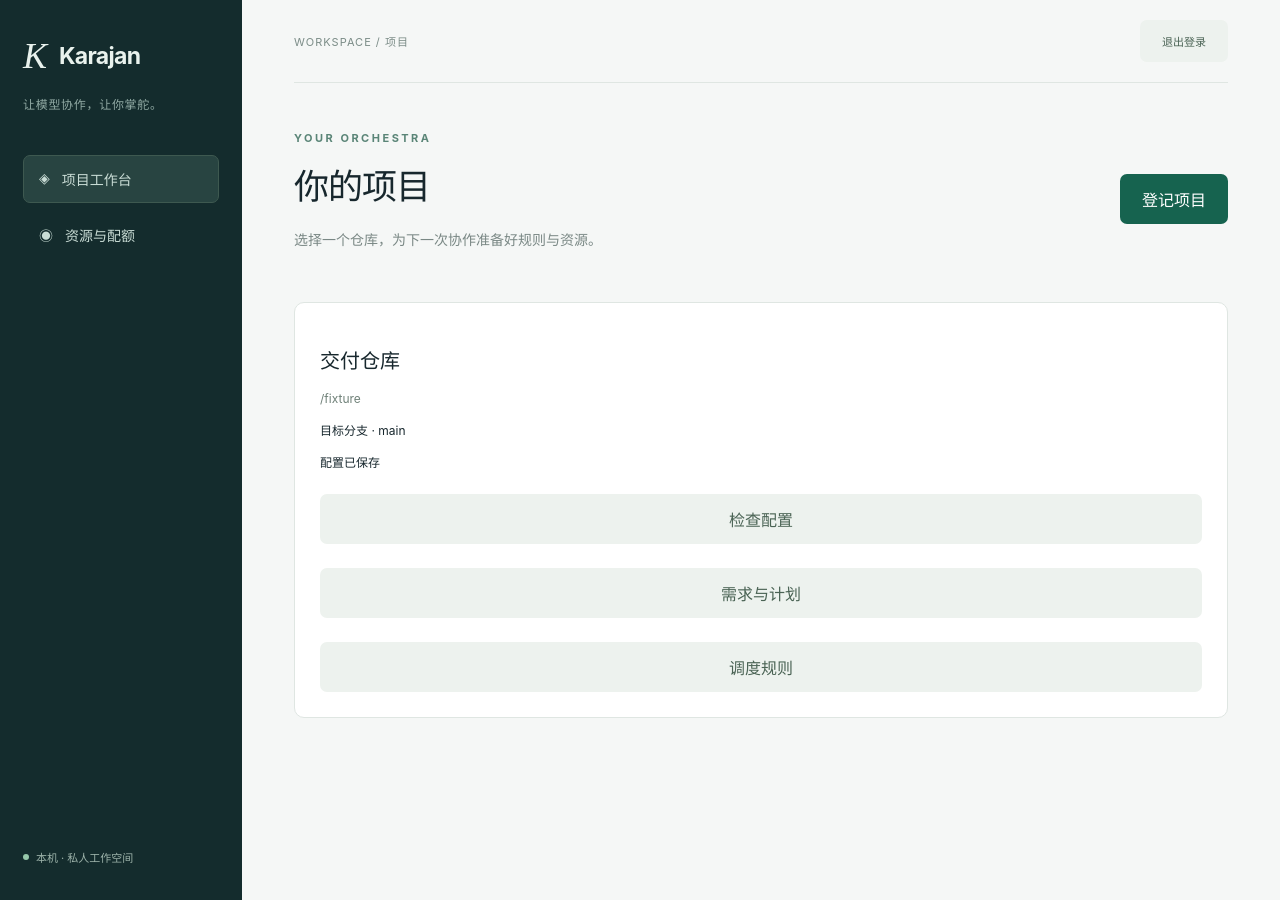
Test: opens the project rulebook from App and expires its owner session
Click the button "调度规则": {"x": 761, "y": 667} [320,642,1202,692]
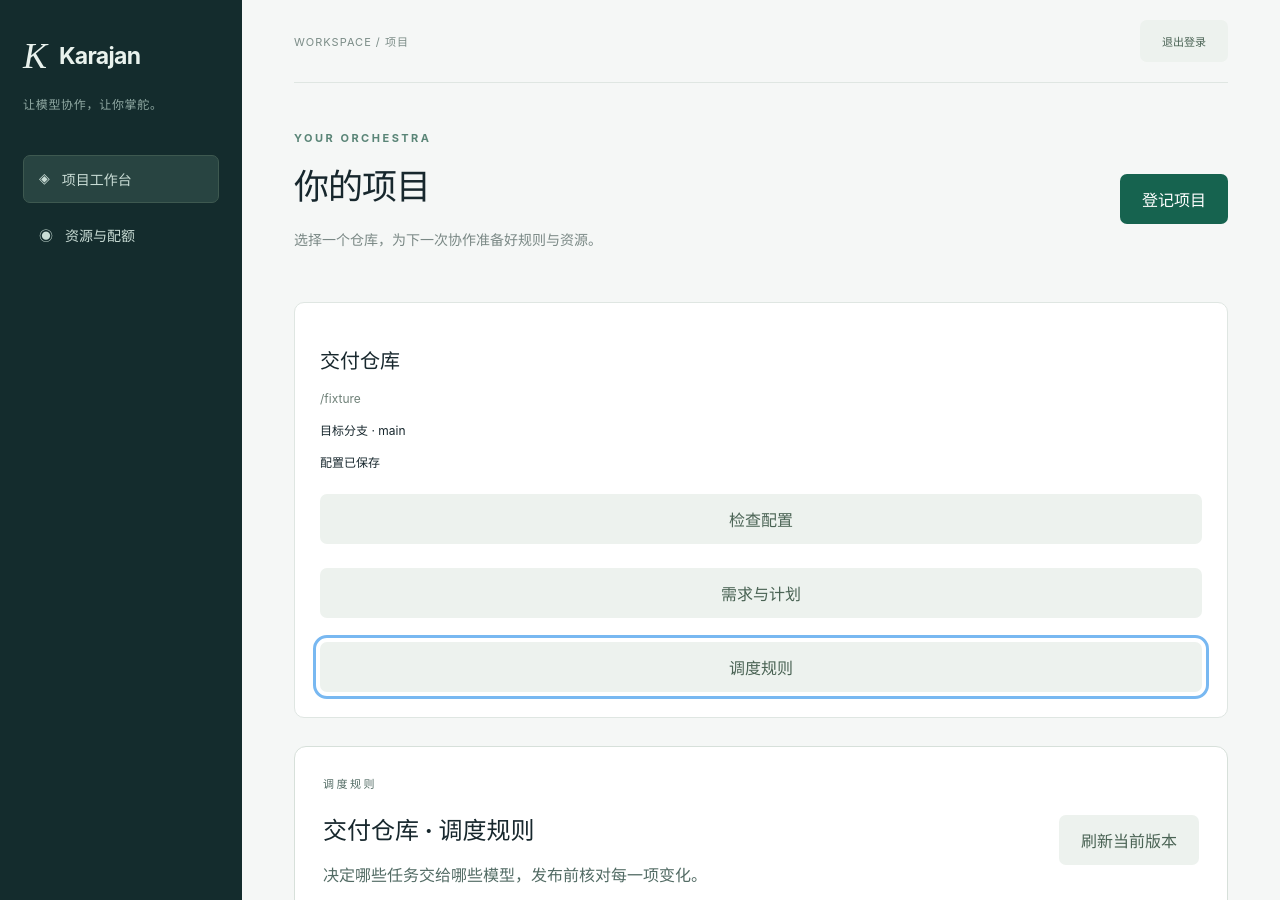
Click the button "刷新当前版本": {"x": 1129, "y": 840} [1059,815,1199,865]
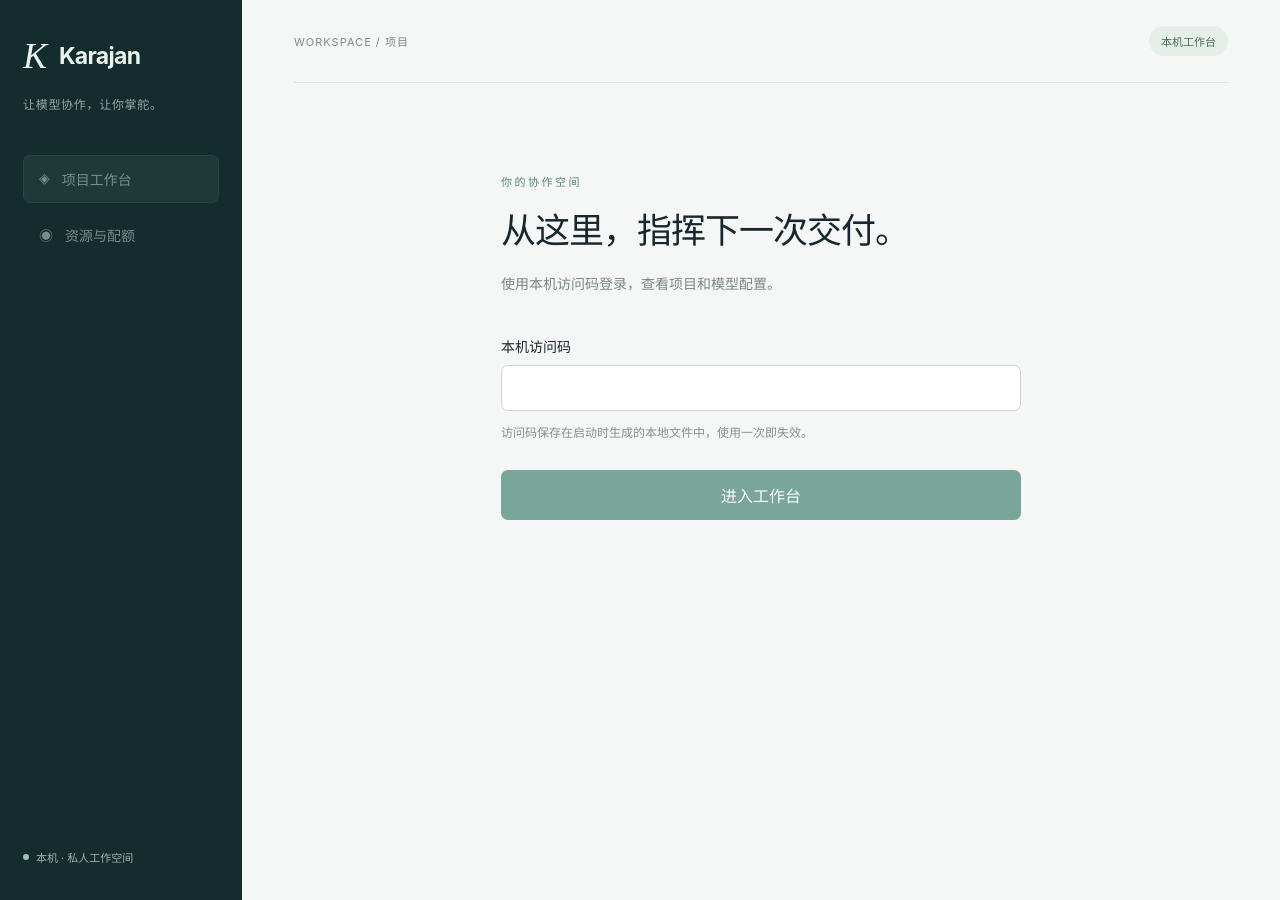
Result: the password field labelled "本机访问码" is shown at [501,365,1021,411]
